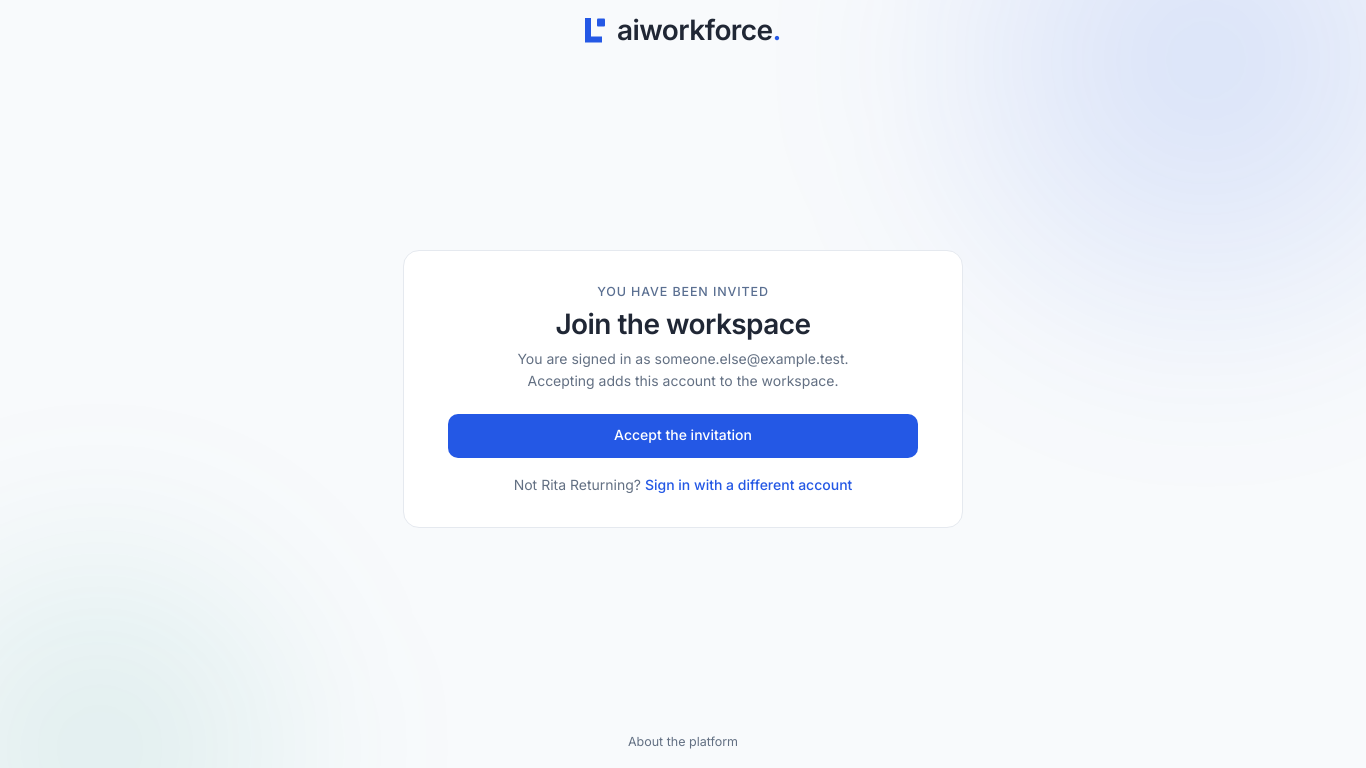
Test: AcceptInvite › says so when the signed-in account is not the one invited, and offers another account
The width and height of the screenshot is (1366, 768).
Click the button "Accept the invitation" at (683, 436), box [448,414,918,458]
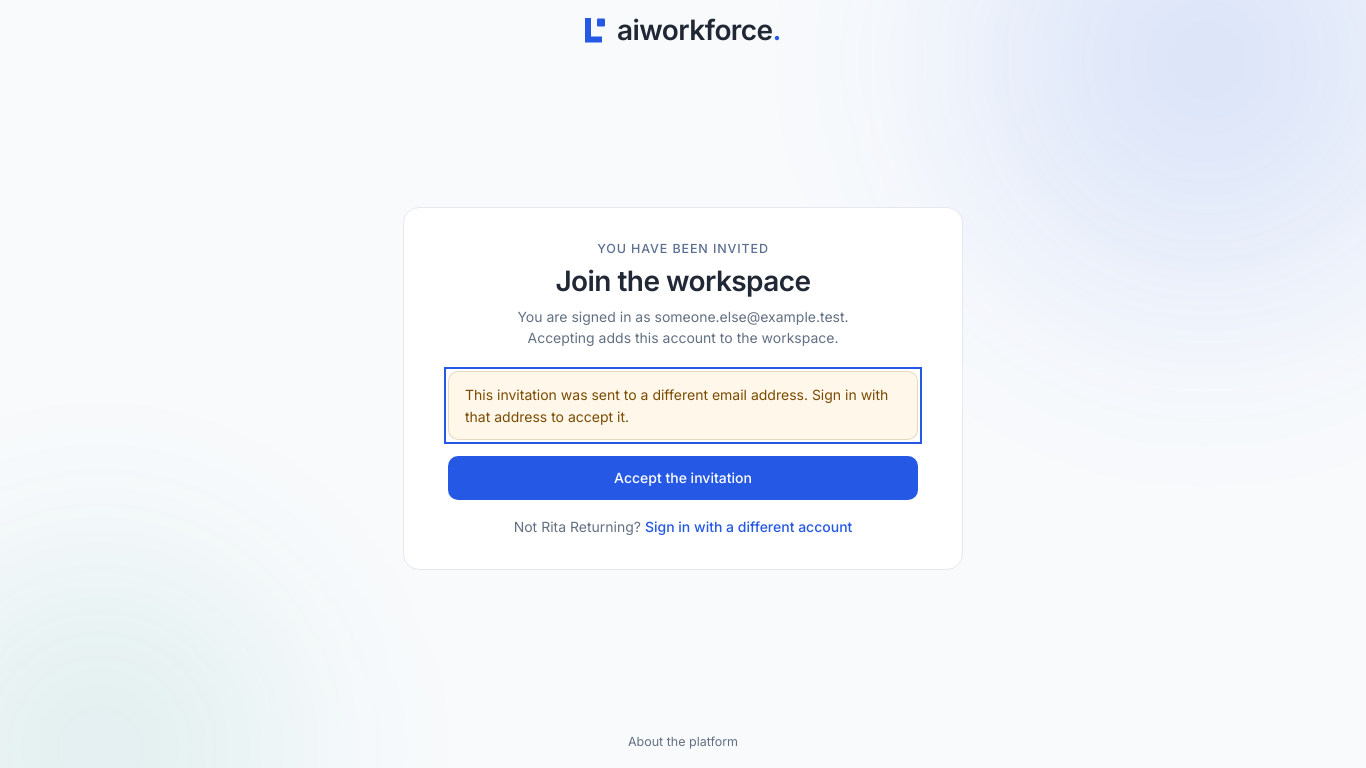
Expected: the link "Sign in with a different account" is shown, [645,518,852,535]
Result: the text "sent to a different email address" is shown at [465,386,888,425]
